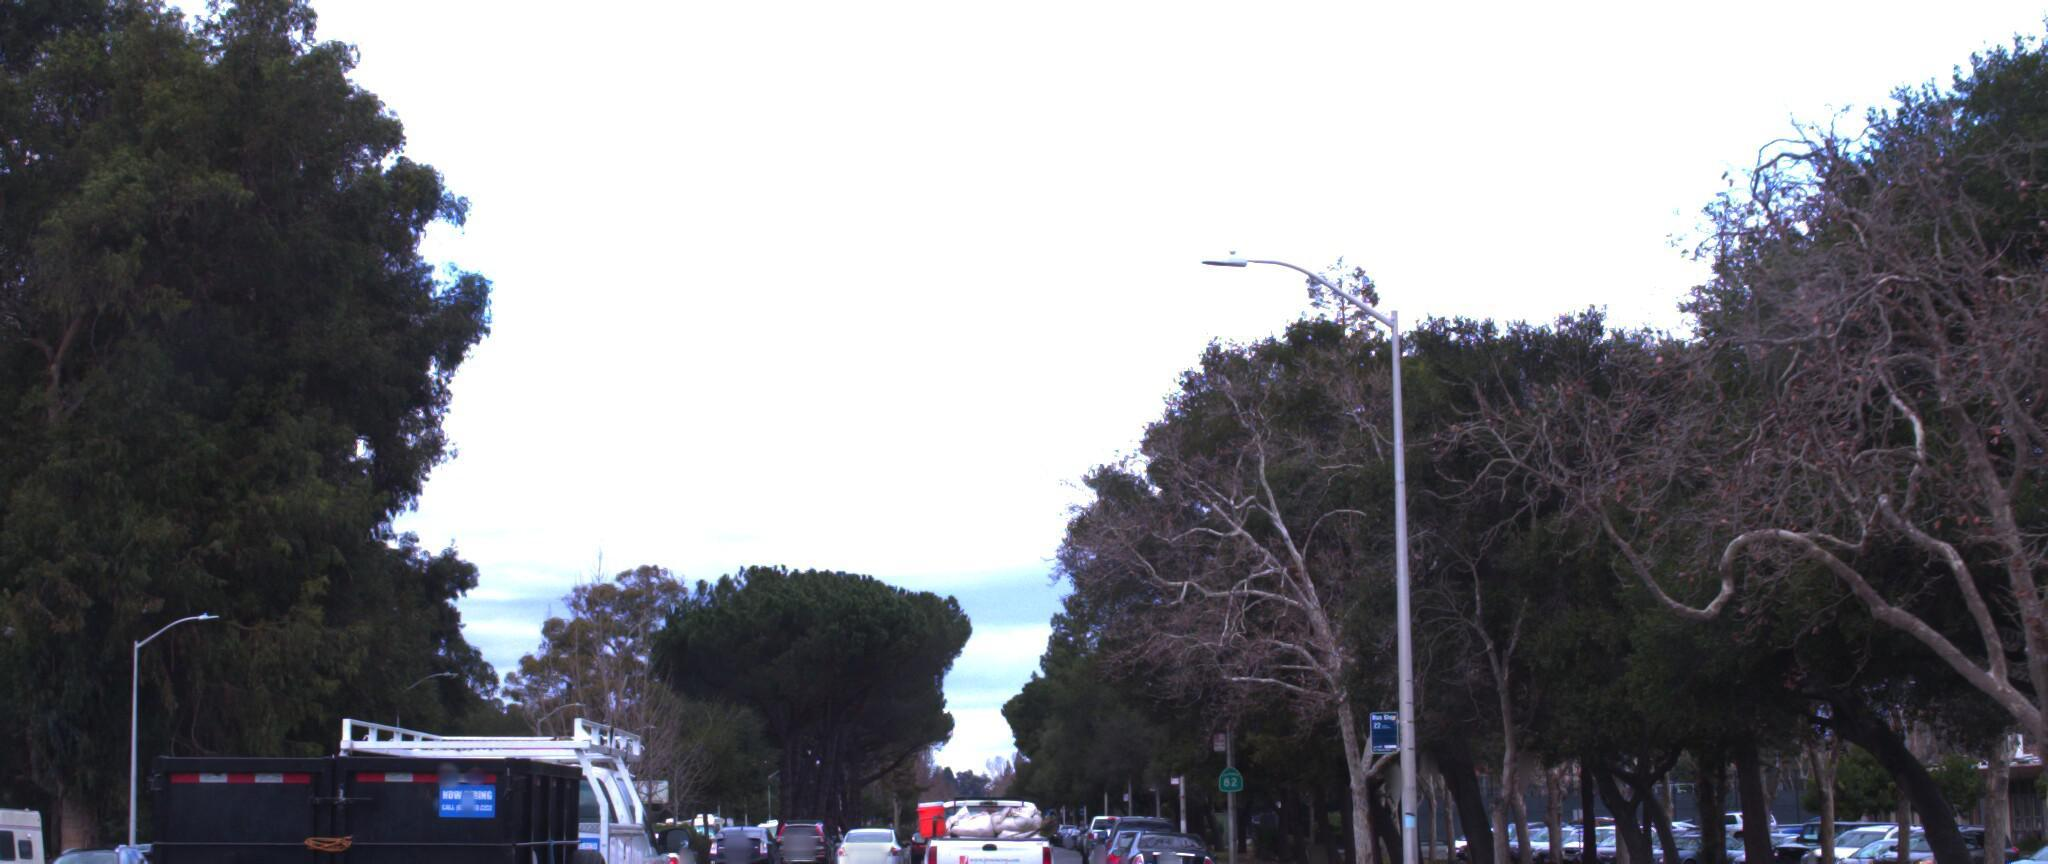car: (110, 643, 737, 864), (906, 767, 1054, 864), (1104, 803, 1223, 864), (20, 820, 183, 864), (613, 807, 714, 864), (825, 800, 912, 864), (695, 808, 784, 864)
other_vehicle: (0, 769, 65, 864)
